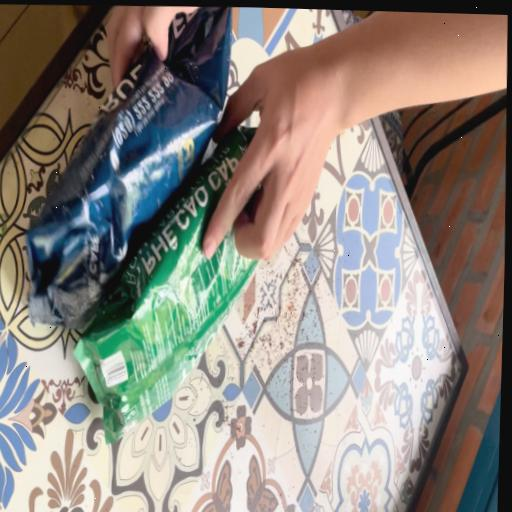cafe_hat: (25, 7, 231, 328)
cafe_xay: (73, 127, 257, 443)
